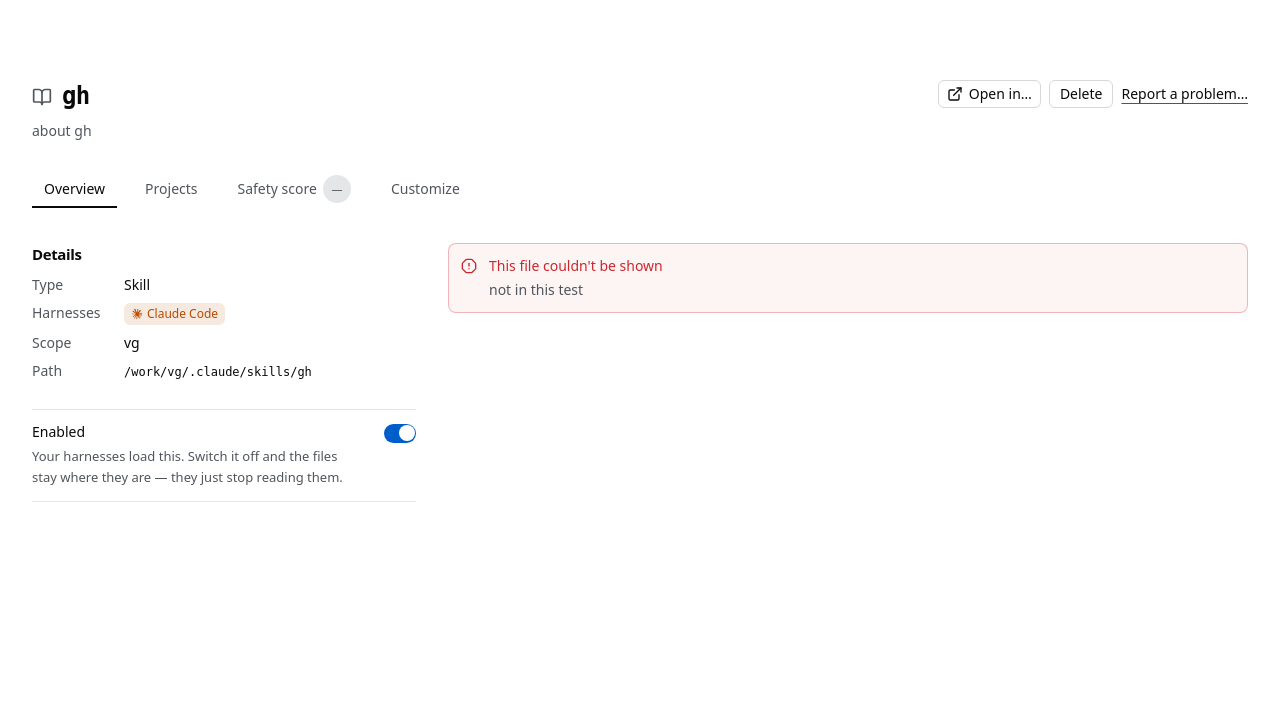
it: the package page's delete action › is named Delete and names every place it would reach
The image size is (1280, 720).
Click the button "Delete". click: (1081, 94)
box: left=1049, top=80, right=1114, bottom=108
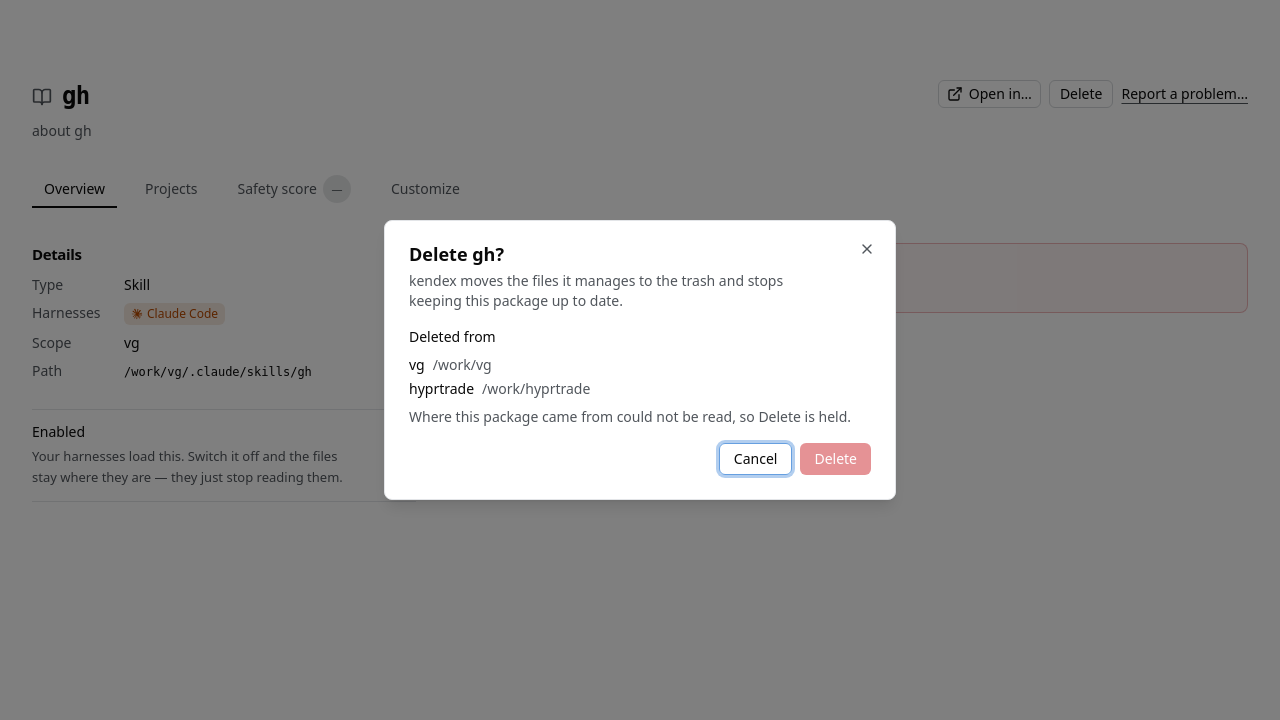
Check: the text "/work/vg" is shown, box left=124, top=365, right=312, bottom=379
Check: the text "Delete gh?" is shown, box left=409, top=242, right=504, bottom=266
Check: the text "/work/hyprtrade" is shown, box left=482, top=379, right=590, bottom=399
